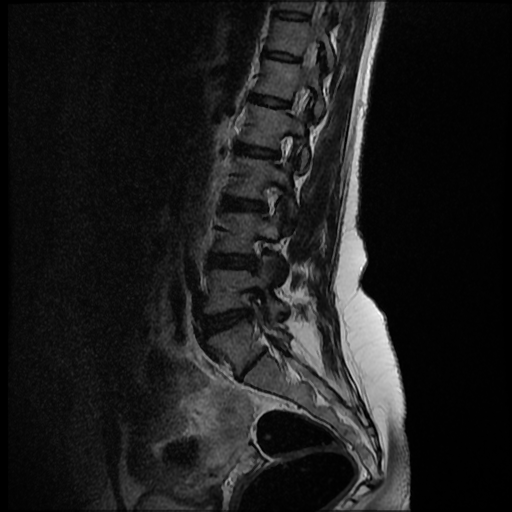LFS0: (263, 124, 299, 173), (254, 174, 288, 225)
